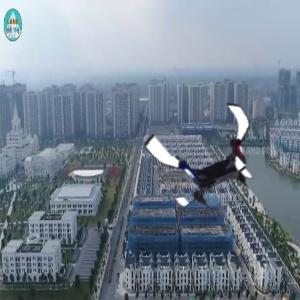drone: (152, 97, 269, 214)
